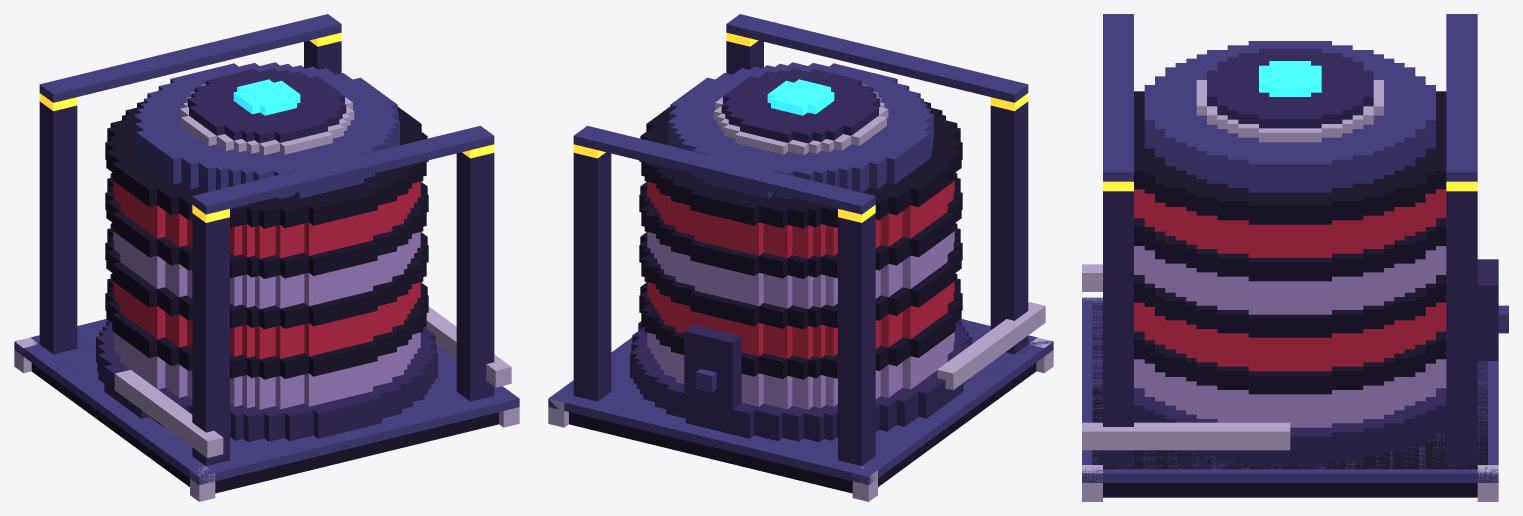
The model's file is reactor.md.glb.
3 renders of one model, left to right at view 1: azimuth 30°, elevation 25°; view 2: azimuth 150°, elevation 25°; view 3: azimuth 270°, elevation 25°, orthographic. The views are drawn at different scales.
Visible parts, largest first — view 1: reactor.md; view 2: reactor.md; view 3: reactor.md.
Part boxes in pixels (left/top/right/bottom): reactor.md: left=14, top=14, right=519, bottom=501; reactor.md: left=548, top=14, right=1053, bottom=501; reactor.md: left=1082, top=14, right=1508, bottom=501.
Bounding box in the file's own units: 2.5 × 2.25 × 2.56.
